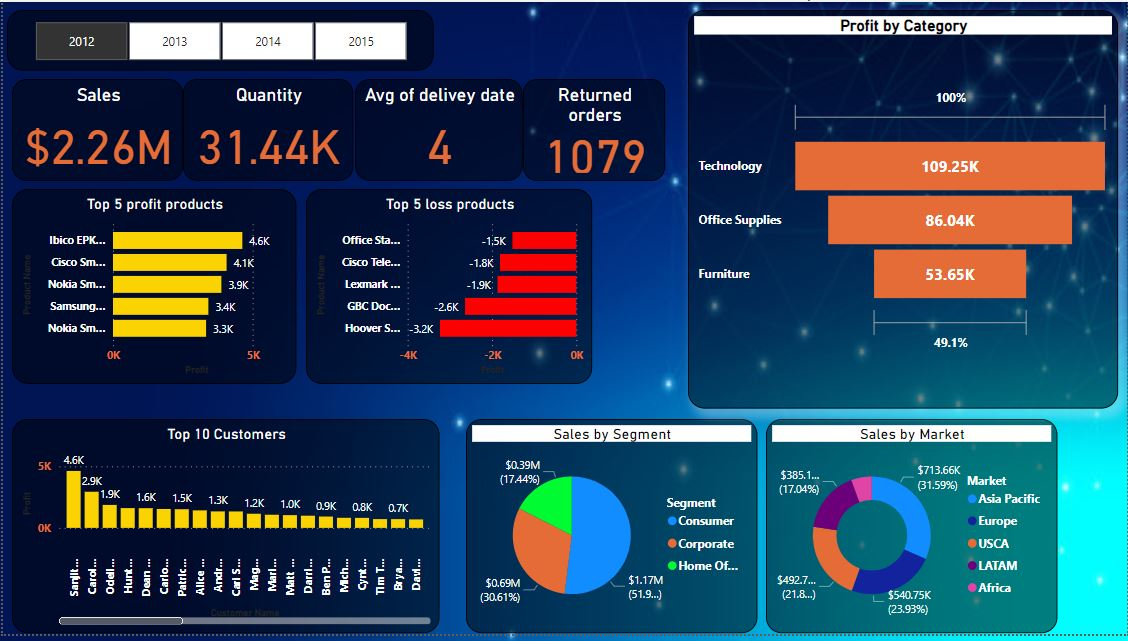

The dashboard page shown, as its layout file describes it:
{"tool":"powerbi","page":{"name":"Page 1","canvas":[1280,720],"ordinal":0},"visuals":[{"type":"card","title":"Sales","fields":{"Values":["Sum(Orders.Sales)"]},"box":[10.3,87.4,195.3,115.7],"z":0},{"type":"card","title":"Quantity","fields":{"Values":["Sum(Orders.Quantity)"]},"box":[205.6,87.4,194.1,115.7],"z":1000},{"type":"card","title":"Avg of delivey date","fields":{"Values":["Avg(Orders.Delivery date)"]},"box":[401,87.4,191.5,115.7],"z":2000},{"type":"slicer","fields":{"Values":["Orders.Year"]},"box":[4.6,9.1,486.5,69.5],"z":3000},{"type":"card","title":"Returned orders","fields":{"Values":["Sum(Returns.Returned orders)"]},"box":[592.4,87.4,161.9,115.7],"z":4000},{"type":"barChart","title":"Top 5 profit products","fields":{"Y":["Sum(Orders.Profit)"],"Category":["Orders.Product Name"]},"box":[10.3,213.3,323.9,222.3],"z":5000},{"type":"barChart","title":"Top 5 loss products","fields":{"Y":["Sum(Orders.Profit)"],"Category":["Orders.Product Name"]},"box":[345.7,213.3,326.4,222.3],"z":7000},{"type":"pieChart","fields":{"Category":["Orders.Segment"],"Y":["Sum(Orders.Sales)"]},"box":[526.9,475.5,331.6,244.2],"z":8000},{"type":"columnChart","title":"Top 10 Customers","fields":{"Y":["Sum(Orders.Profit)"],"Category":["Orders.Customer Name"]},"box":[10.3,475.5,487.1,244.2],"z":10000},{"type":"donutChart","fields":{"Y":["Sum(Orders.Sales)"],"Category":["Orders.Market"]},"box":[868.8,475.5,331.6,244.2],"z":11000},{"type":"funnel","fields":{"Category":["Orders.Category"],"Y":["Sum(Orders.Profit)"]},"box":[780.1,9,489.6,453.7],"z":11002}]}

Visuals, with their boxes in screenshot pixels (x1, y1, x2, y2), scaled from the page's 1280x720 canvas onto the 1128x641 screenshot:
"Sales" card: 9 78 181 181
"Quantity" card: 181 78 352 181
"Avg of delivey date" card: 353 78 522 181
slicer - Orders.Year: 4 8 433 70
"Returned orders" card: 522 78 665 181
"Top 5 profit products" barChart: 9 190 295 388
"Top 5 loss products" barChart: 305 190 592 388
pieChart - Orders.Segment x Sum(Orders.Sales): 464 423 757 640
"Top 10 Customers" columnChart: 9 423 438 640
donutChart - Sum(Orders.Sales) x Orders.Market: 766 423 1058 640
funnel - Orders.Category x Sum(Orders.Profit): 687 8 1119 412
